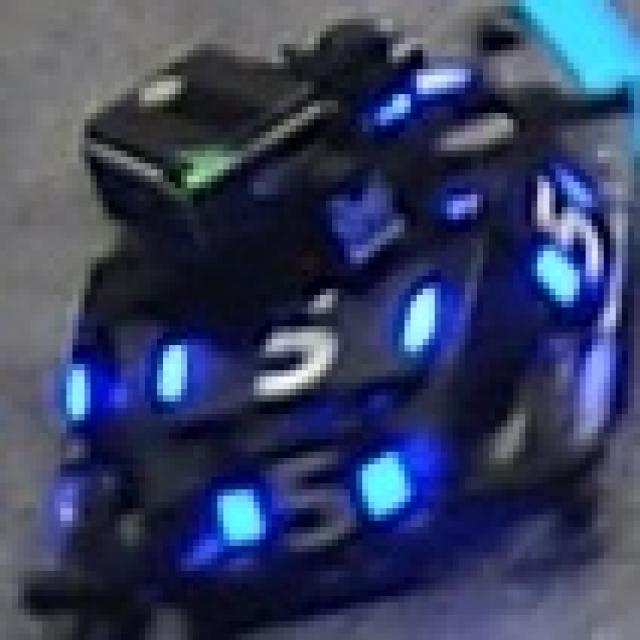B5: (157, 282, 441, 408), (193, 433, 405, 546), (501, 144, 616, 314)
